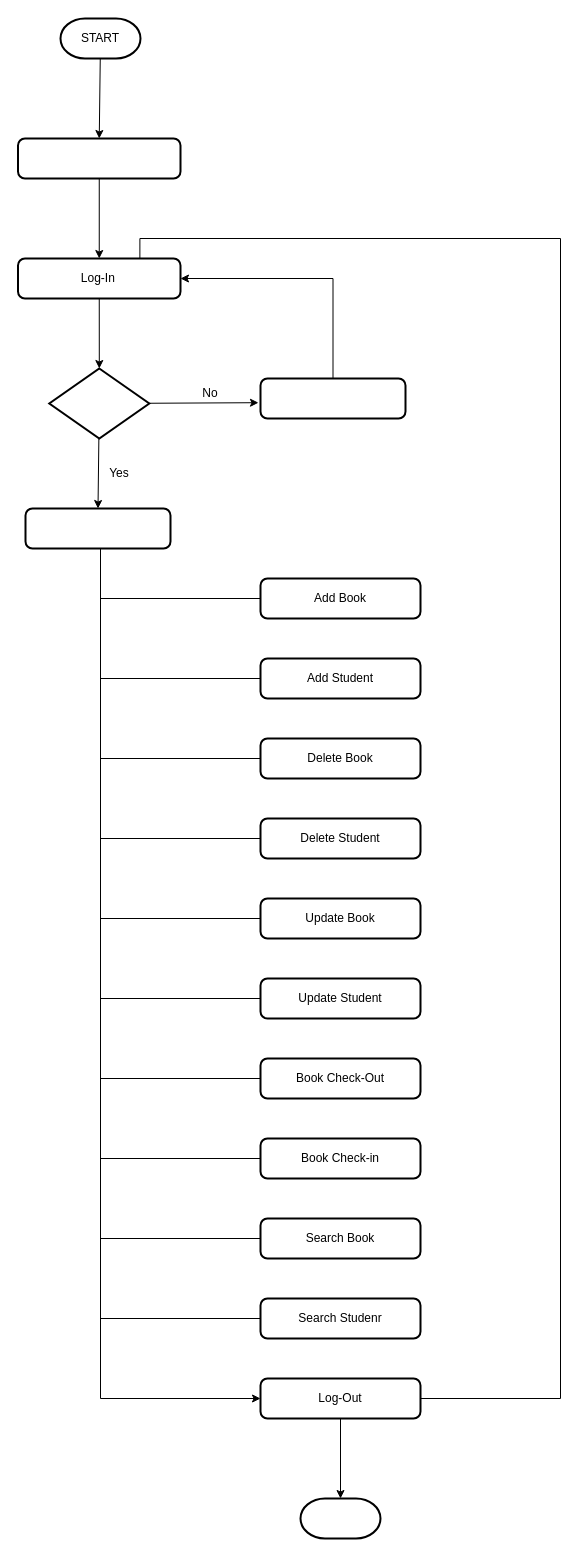
The diagram is 579 pixels wide and 1556 high, and some of its shapes have lost their labels. The shapes that lost their labels are listed below. From the top down, each one's centre as x and y in pixels, then its label:
point 98,158: Home Page
point 99,403: Has Account?
point 332,398: Sign-Up
point 97,528: Dashboard
point 340,1518: END
